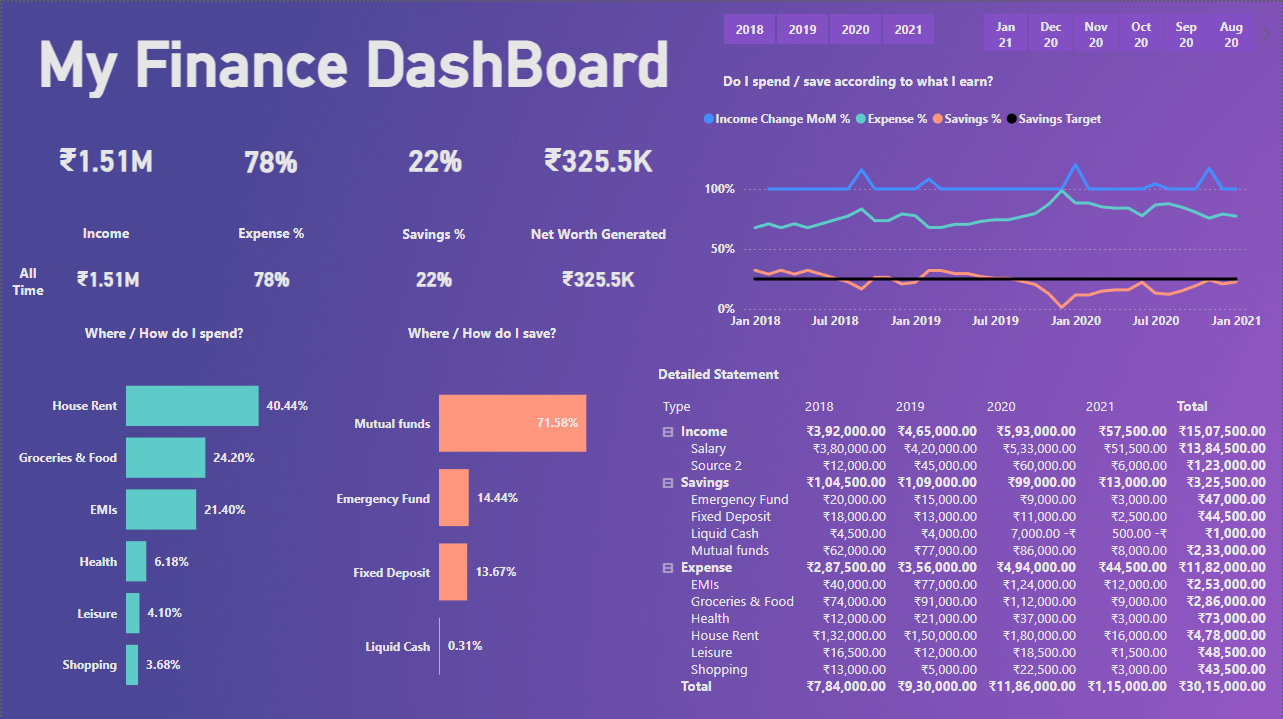

The page's visual inventory and layout, read from the dashboard file:
{"tool":"powerbi","page":{"name":"Dashboard","canvas":[1280,720],"ordinal":0},"visuals":[{"type":"card","fields":{"Values":["Measure(s).Total Income"]},"box":[24.3,97.3,160.5,120],"z":0,"group":"g1"},{"type":"card","fields":{"Values":["Measure(s).Total Income"]},"box":[46,257,120,40],"z":0},{"type":"group","id":"g1","title":"Group 1","box":[24.3,97.3,653,156],"z":1000},{"type":"card","fields":{"Values":["Measure(s).Expense %"]},"box":[188.7,97.3,160.5,120.6],"z":1000,"group":"g1"},{"type":"slicer","fields":{"Values":["FinData.Year"]},"box":[696,5,260,44],"z":2000},{"type":"card","fields":{"Values":["Measure(s).Savings %"]},"box":[353.1,97.3,160,120],"z":2000,"group":"g1"},{"type":"slicer","fields":{"Values":["FinData.Date"]},"box":[956,5,319,44],"z":3000},{"type":"card","fields":{"Values":["Measure(s).Total Savings"]},"box":[516.5,97.3,160,120],"z":3000,"group":"g1"},{"type":"textbox","box":[24.3,216.9,160.5,35],"z":4000,"group":"g1"},{"type":"card","fields":{"Values":["Measure(s).Expense %"]},"box":[209,257,121,40],"z":4000},{"type":"textbox","box":[189.6,216.9,160.5,35],"z":5000,"group":"g1"},{"type":"card","fields":{"Values":["Measure(s).Savings %"]},"box":[372,257,120,40],"z":5000},{"type":"textbox","box":[352.1,217.9,160.5,35],"z":6000,"group":"g1"},{"type":"card","fields":{"Values":["Measure(s).Total Savings"]},"box":[536,257,120,40],"z":6000},{"type":"textbox","box":[516.3,218.3,161,35],"z":7000,"group":"g1"},{"type":"textbox","box":[0,257,52,48],"z":7000},{"type":"card","fields":{"Values":["Measure(s).Title"]},"box":[26,5,652,96],"z":8000},{"type":"clusteredBarChart","fields":{"Category":["FinData.Component"],"Y":["Measure(s).Total Expense"]},"box":[10,350,304,360],"z":9000},{"type":"clusteredBarChart","fields":{"Category":["FinData.Component"],"Y":["Measure(s).Total Savings"]},"box":[328,350,304,360],"z":10000},{"type":"lineChart","fields":{"Y":["Measure(s).Income Change MoM %","Measure(s).Expense %","Measure(s).Savings %","Measure(s).Savings Target"],"Category":["FinData.Date"]},"box":[696,97,568,120],"z":11000},{"type":"pivotTable","fields":{"Columns":["FinData.Year","FinData.Date"],"Values":["Measure(s).Values"],"Rows":["Type.Type","FinData.Component"]},"box":[651,390,624,320],"z":12000},{"type":"textbox","box":[10,317,304,28],"z":13000},{"type":"textbox","box":[328,317,304,28],"z":14000},{"type":"textbox","box":[696,65,320,28],"z":15000},{"type":"textbox","box":[650.8,363.5,320.1,27.5],"z":16000},{"type":"textbox","box":[665.9,216.4,612,129.5],"z":16001}]}

Visuals, with their boxes in screenshot pixels (x1, y1, x2, y2), scaled from the page's 1280x720 canvas onto the 1283x719 screenshot:
card - Measure(s).Total Income: Rect(24, 97, 185, 217)
card - Measure(s).Total Income: Rect(46, 257, 166, 297)
"Group 1" group: Rect(24, 97, 679, 253)
card - Measure(s).Expense %: Rect(189, 97, 350, 218)
slicer - FinData.Year: Rect(698, 5, 958, 49)
card - Measure(s).Savings %: Rect(354, 97, 514, 217)
slicer - FinData.Date: Rect(958, 5, 1278, 49)
card - Measure(s).Total Savings: Rect(518, 97, 678, 217)
textbox: Rect(24, 217, 185, 252)
card - Measure(s).Expense %: Rect(209, 257, 331, 297)
textbox: Rect(190, 217, 351, 252)
card - Measure(s).Savings %: Rect(373, 257, 493, 297)
textbox: Rect(353, 218, 514, 253)
card - Measure(s).Total Savings: Rect(537, 257, 658, 297)
textbox: Rect(518, 218, 679, 253)
textbox: Rect(0, 257, 52, 305)
card - Measure(s).Title: Rect(26, 5, 680, 101)
clusteredBarChart - FinData.Component x Measure(s).Total Expense: Rect(10, 350, 315, 709)
clusteredBarChart - FinData.Component x Measure(s).Total Savings: Rect(329, 350, 633, 709)
lineChart - Measure(s).Income Change MoM % x Measure(s).Expense %: Rect(698, 97, 1267, 217)
pivotTable - FinData.Year x FinData.Date: Rect(653, 389, 1278, 709)
textbox: Rect(10, 317, 315, 345)
textbox: Rect(329, 317, 633, 345)
textbox: Rect(698, 65, 1018, 93)
textbox: Rect(652, 363, 973, 390)
textbox: Rect(667, 216, 1281, 345)
